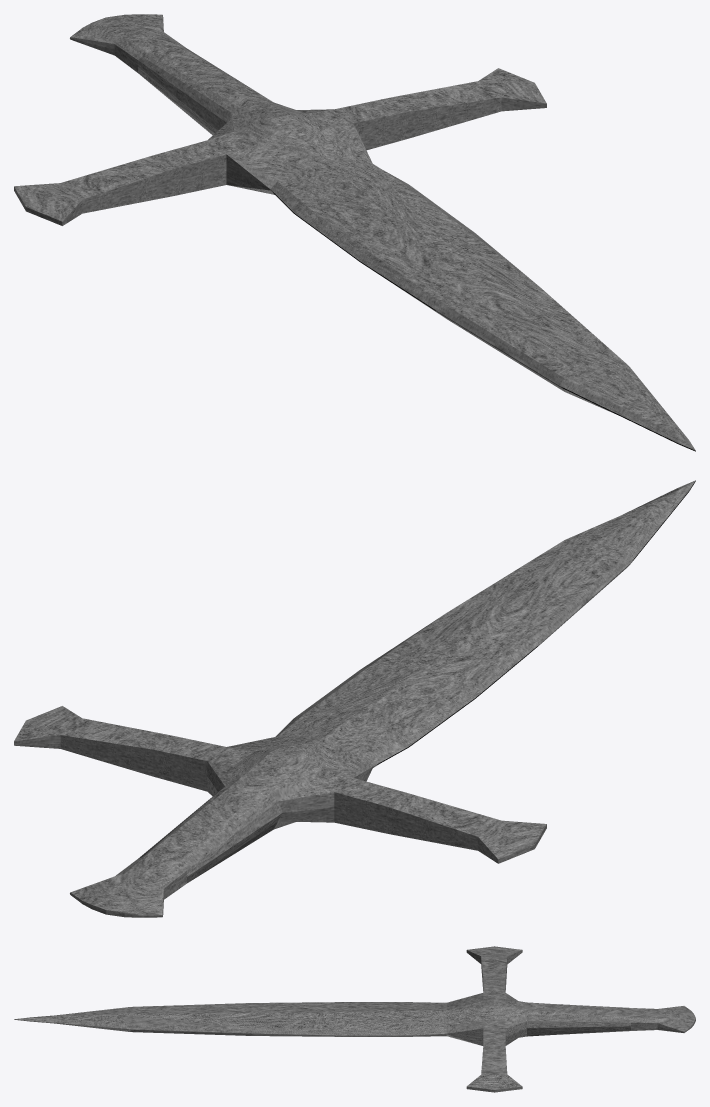
Rendered from Grainy_Dagger 1.fbx.
3 renders of one model, top to bottom at view 1: azimuth 30°, elevation 25°; view 2: azimuth 150°, elevation 25°; view 3: azimuth 270°, elevation 25°, orthographic. The views are drawn at different scales.
Parts seen in each view (by area): view 1: Cube; view 2: Cube; view 3: Cube.
Boxes of the visible parts, bbox=[...] form: Cube: bbox=[14, 14, 695, 451]; Cube: bbox=[14, 480, 695, 917]; Cube: bbox=[14, 946, 695, 1092].
Size of the model in its own units: 883 by 99.51 by 1772.
1 material, 1 textured.
